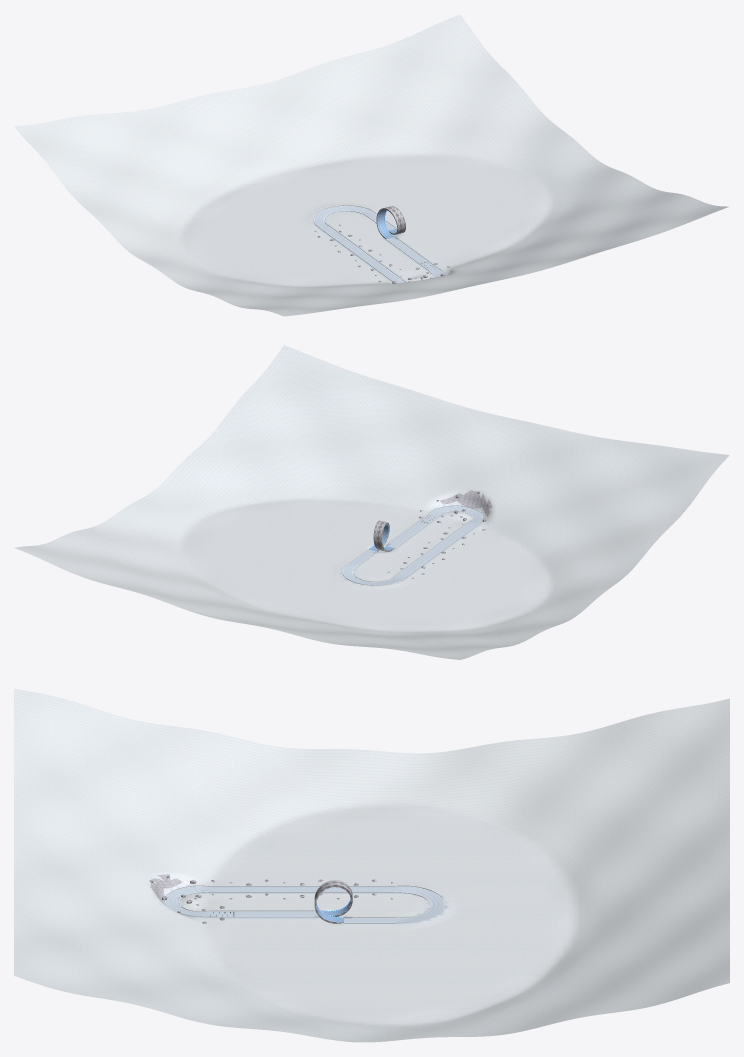
3 renders of one model, top to bottom at view 1: azimuth 30°, elevation 25°; view 2: azimuth 150°, elevation 25°; view 3: azimuth 270°, elevation 25°, orthographic. The views are drawn at different scales.
Visible parts, largest first — view 1: Land, Road 05 road, Loop, Road 06 road; view 2: Land, Road 07 road, Road 06 road, Road 05 road; view 3: Land, Road 05 road, Road 06 road, Road 07 road, Loop.
Boxes of the visible parts, box(x1,y1,x2,y2) form: Land: box(14, 14, 728, 316); Road 05 road: box(313, 205, 377, 232); Loop: box(376, 206, 405, 238); Road 06 road: box(325, 230, 392, 274); Land: box(14, 345, 729, 659); Road 07 road: box(419, 505, 483, 531); Road 06 road: box(402, 529, 469, 572); Road 05 road: box(342, 560, 411, 585); Land: box(14, 688, 729, 1042); Road 05 road: box(380, 885, 444, 923); Road 06 road: box(228, 885, 380, 892); Road 07 road: box(164, 885, 233, 917); Loop: box(314, 880, 352, 923).
Size of the model in its own units: 840 by 116 by 880.
Materials: 11 (11 with a texture image).
